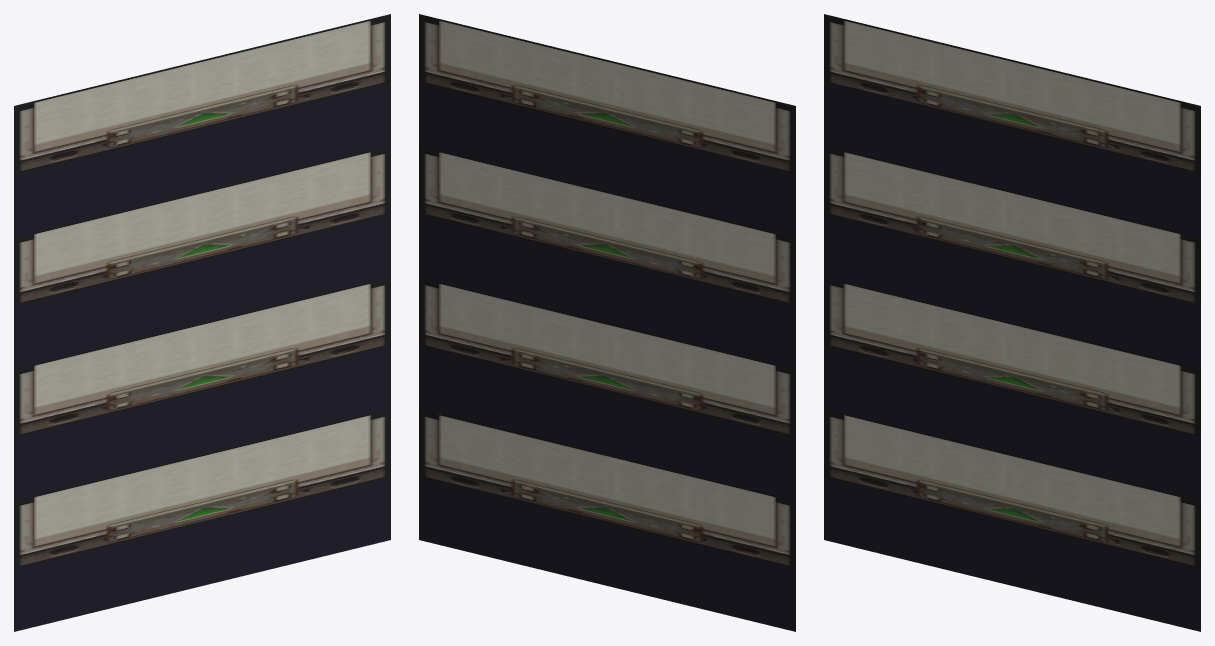
File: OBJ_Editor_StairsCap_UU.glb
3 views of the same model, side by side, from view 1: azimuth 30°, elevation 25°; view 2: azimuth 150°, elevation 25°; view 3: azimuth 330°, elevation 25° (orthographic).
Visible parts, largest first — view 1: Renderer_1, Renderer_4, Renderer_2, Renderer_3; view 2: Renderer_1, Renderer_4, Renderer_2, Renderer_3; view 3: Renderer_1, Renderer_4, Renderer_2, Renderer_3.
Boxes of the visible parts, x1=… form: Renderer_1: x1=14, y1=408, x2=390, y2=631; Renderer_4: x1=14, y1=14, x2=390, y2=237; Renderer_2: x1=14, y1=277, x2=390, y2=500; Renderer_3: x1=14, y1=145, x2=390, y2=368; Renderer_1: x1=419, y1=408, x2=795, y2=631; Renderer_4: x1=419, y1=14, x2=795, y2=237; Renderer_2: x1=419, y1=277, x2=795, y2=500; Renderer_3: x1=419, y1=145, x2=795, y2=368; Renderer_1: x1=824, y1=408, x2=1200, y2=631; Renderer_4: x1=824, y1=14, x2=1200, y2=237; Renderer_2: x1=824, y1=277, x2=1200, y2=500; Renderer_3: x1=824, y1=145, x2=1200, y2=368.
Size of the model in its own units: 3 by 4 by 6.12e-17.
4 materials, 4 textured.
